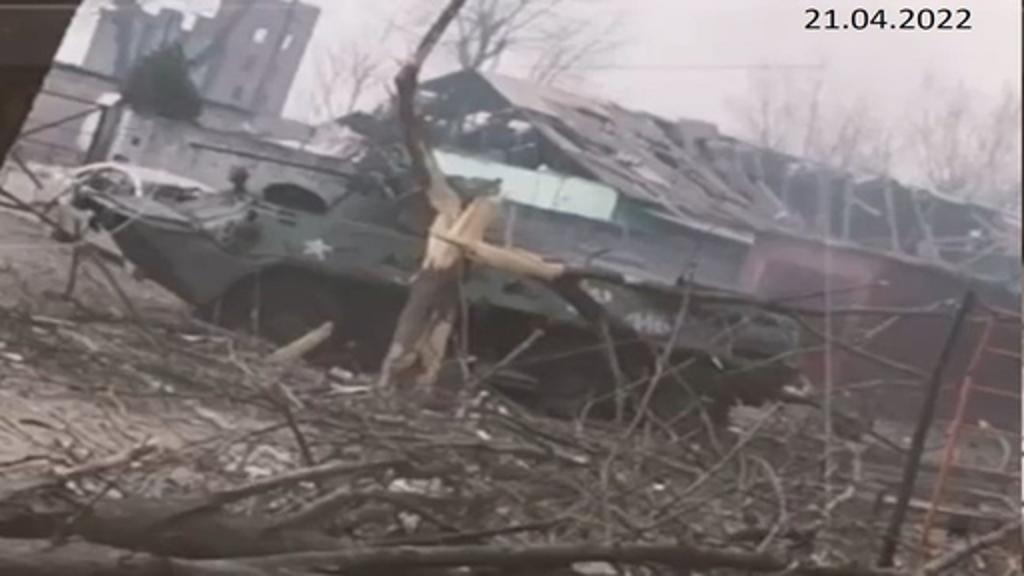APC-IFV: (80, 132, 804, 456)
